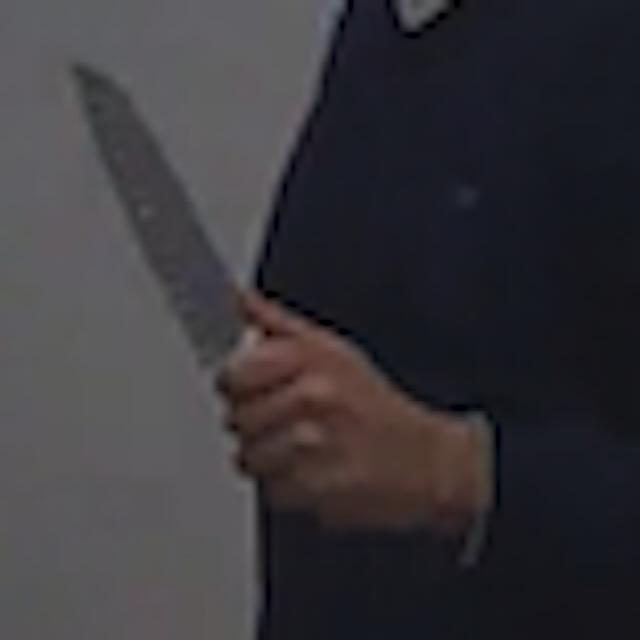suspicion: (54, 6, 634, 631), (58, 48, 244, 346)
